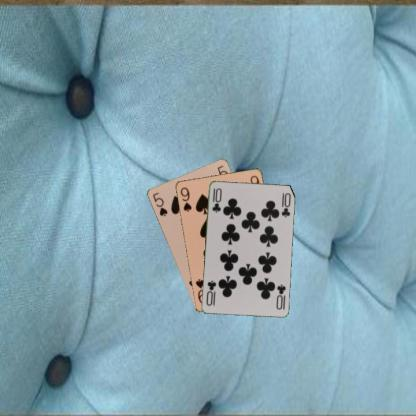10c: (273, 281, 287, 311), (209, 185, 223, 214)
5s: (150, 190, 169, 217)
9s: (178, 184, 192, 213)
